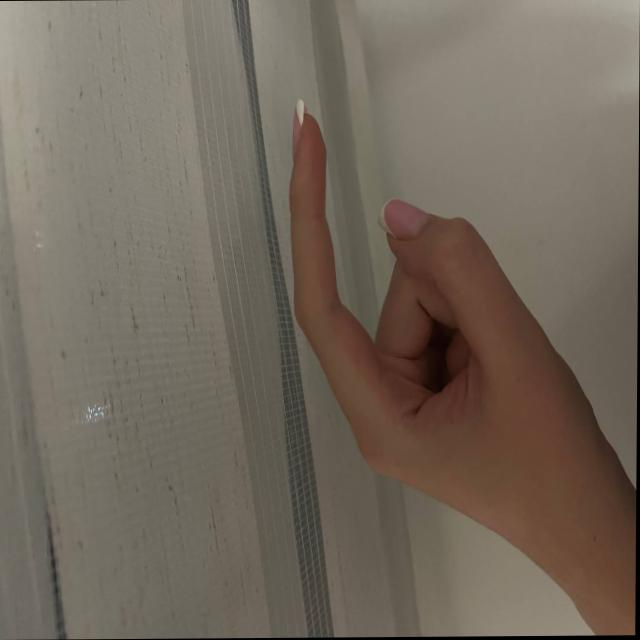z: (269, 77, 573, 507)
